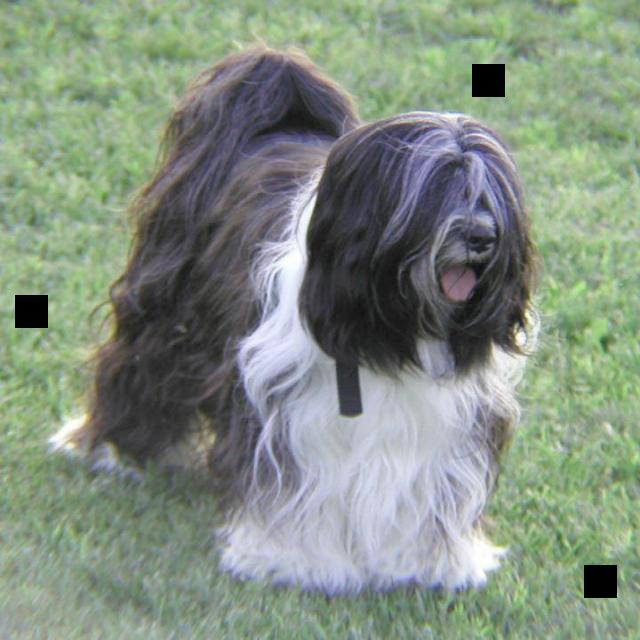adult_dog: (45, 48, 545, 603)
